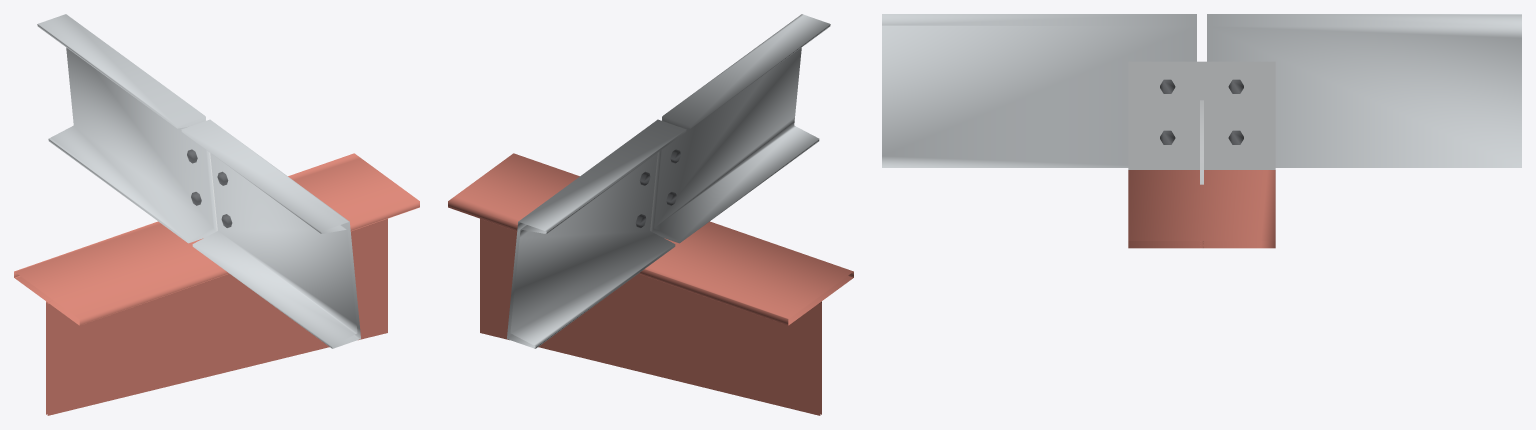
File: purlin.glb
The picture shows the model from 3 angles, left to right: view 1: azimuth 30°, elevation 25°; view 2: azimuth 150°, elevation 25°; view 3: azimuth 270°, elevation 25°; orthographic projection. The views are drawn at different scales.
Parts seen in each view (by area): view 1: frame, purlin, bolt; view 2: frame, purlin, bolt; view 3: purlin, cleat, frame, bolt.
Boxes of the visible parts, x1,y1,x2,y2 form: frame: (14,153,419,415); purlin: (37,14,360,348); bolt: (187,149,232,227); frame: (448,153,853,415); purlin: (507,14,830,348); bolt: (635,149,680,227); purlin: (882,14,1521,167); cleat: (1128,61,1275,184); frame: (1128,170,1275,248); bolt: (1160,79,1243,144).
Bounding box in the file's own units: 0.9 × 0.6525 × 1.3.
